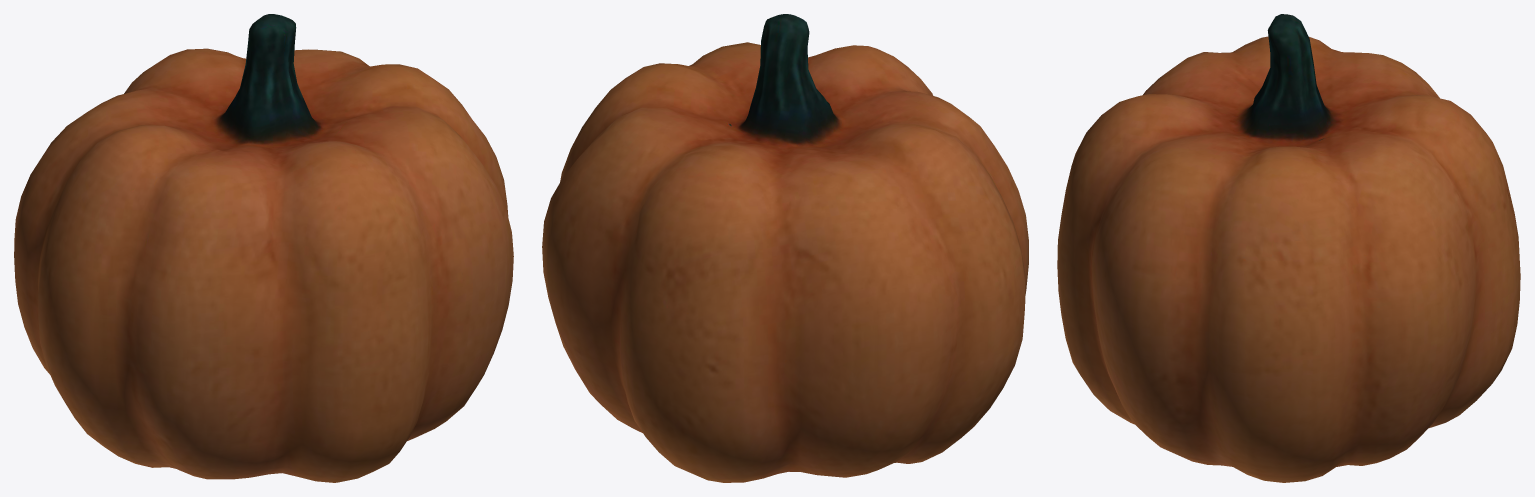
Rendered from 75e8ec764e1a_A_pumpkin_low_poly_.fbx.
3 views of the same model, side by side, from view 1: azimuth 30°, elevation 25°; view 2: azimuth 150°, elevation 25°; view 3: azimuth 270°, elevation 25° (orthographic).
Visible parts, largest first — view 1: mesh; view 2: mesh; view 3: mesh.
Part boxes in pixels (x1=…): mesh: x1=14, y1=14, x2=513, y2=482; mesh: x1=542, y1=14, x2=1028, y2=482; mesh: x1=1057, y1=14, x2=1520, y2=482.
Size of the model in its own units: 99.87 by 91.42 by 91.71.
